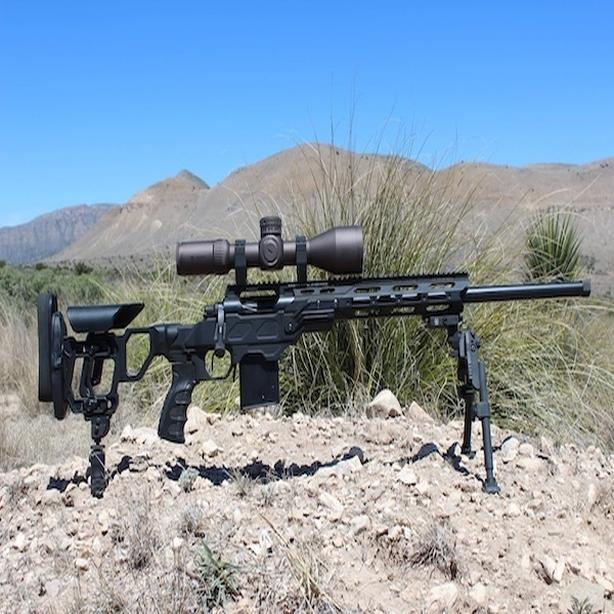Firearm: (15, 199, 600, 515)
